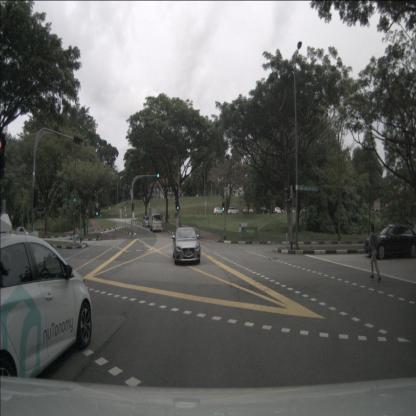human-pedestrian-adult: (368, 224, 382, 284)
vehicle-car: (0, 235, 92, 390), (364, 223, 416, 258), (173, 226, 201, 266), (142, 216, 151, 228), (213, 206, 223, 216), (260, 207, 271, 214), (273, 207, 284, 214), (228, 207, 239, 214), (244, 207, 254, 214)
vehicle-truck: (149, 208, 162, 232)
